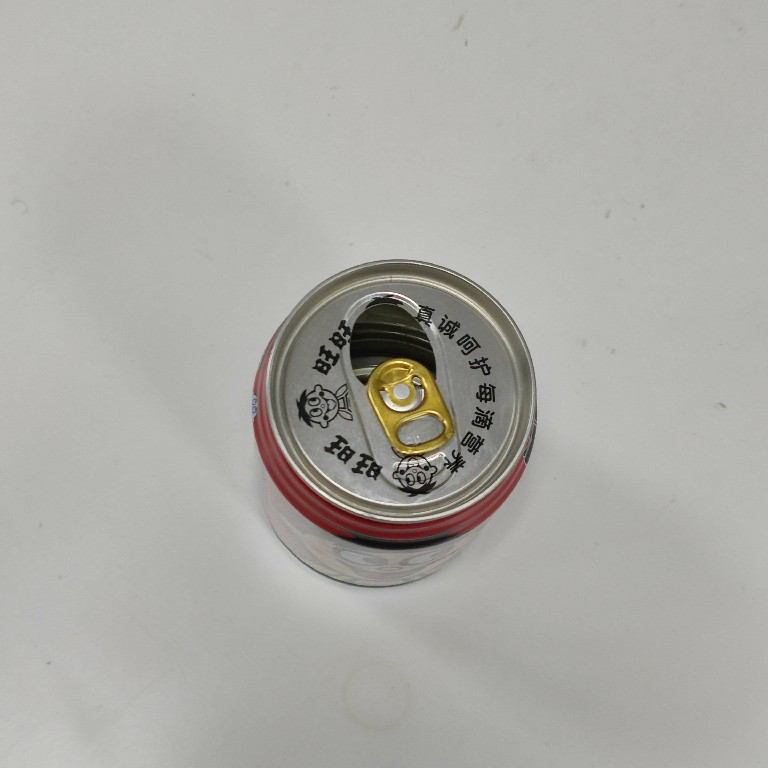can: (245, 255, 543, 591)
